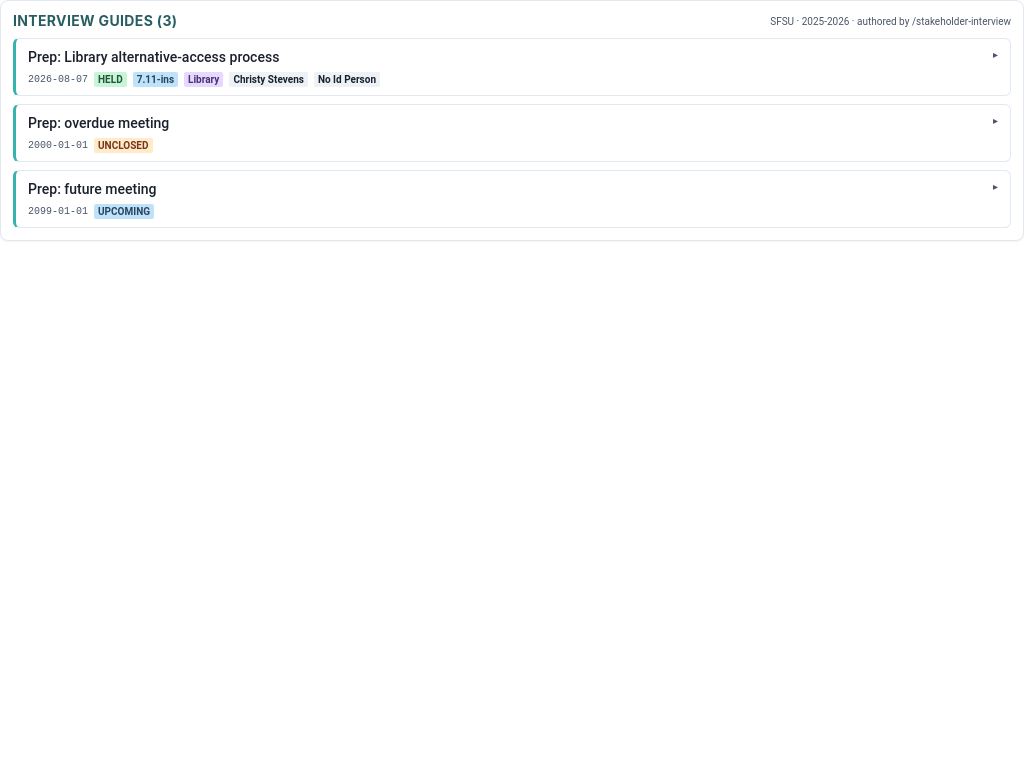
InterviewGuidesPanel › offers no follow-up on a guide with no minutes linked
What coordinates should you click on to do the following:
click the button with aria-label "open interview guide: prep: overdue"
I would click on:
 (99, 123)
Its box is [28,113,983,134].
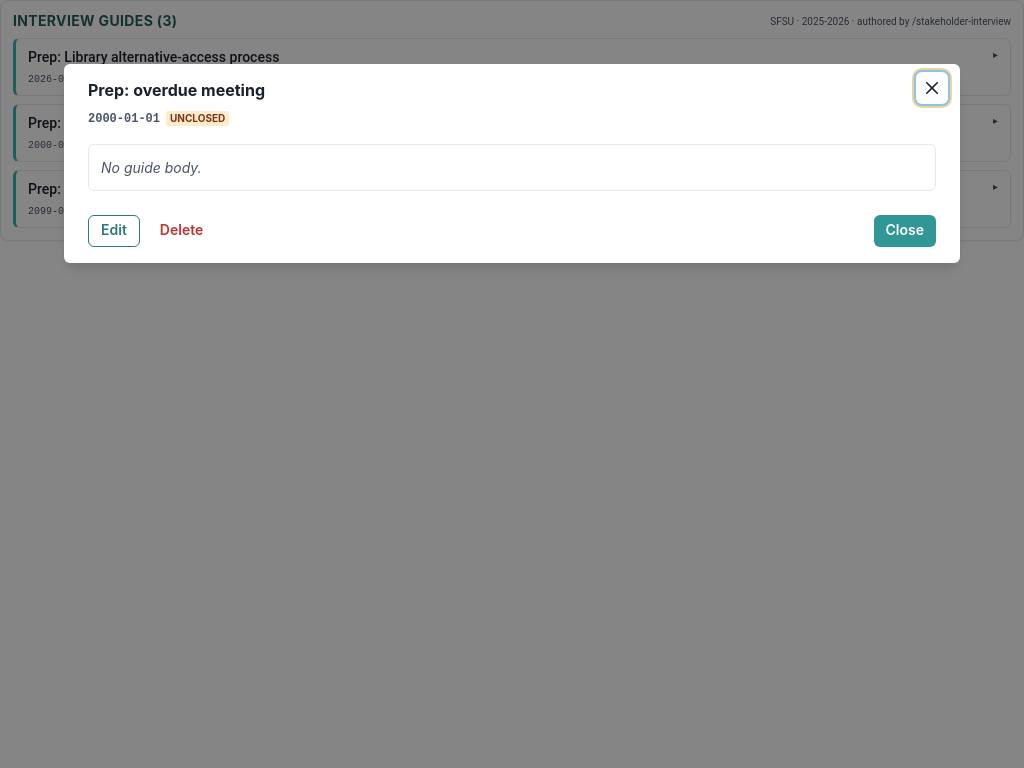
Now the dialog is shown, box [64,64,960,263]
